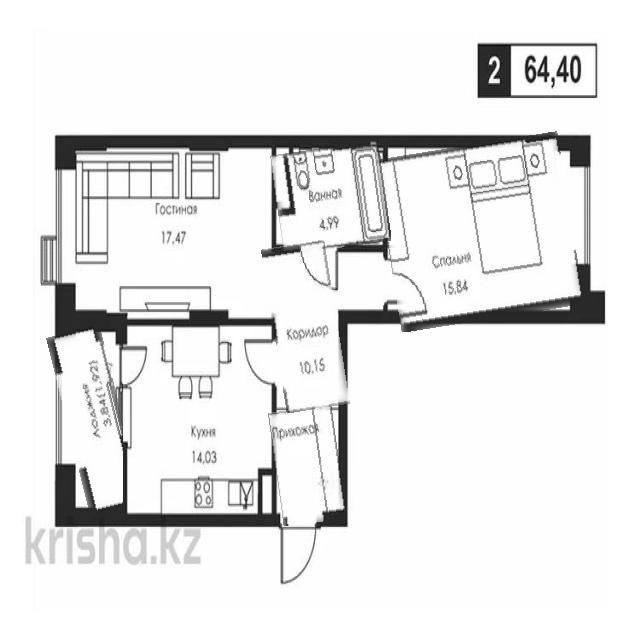balcony: (57, 327, 134, 519)
bathroom: (273, 144, 388, 251)
hallway: (268, 242, 344, 412), (272, 406, 344, 525)
kitchen: (123, 322, 275, 520)
living_room: (381, 137, 578, 326), (64, 147, 274, 318)
